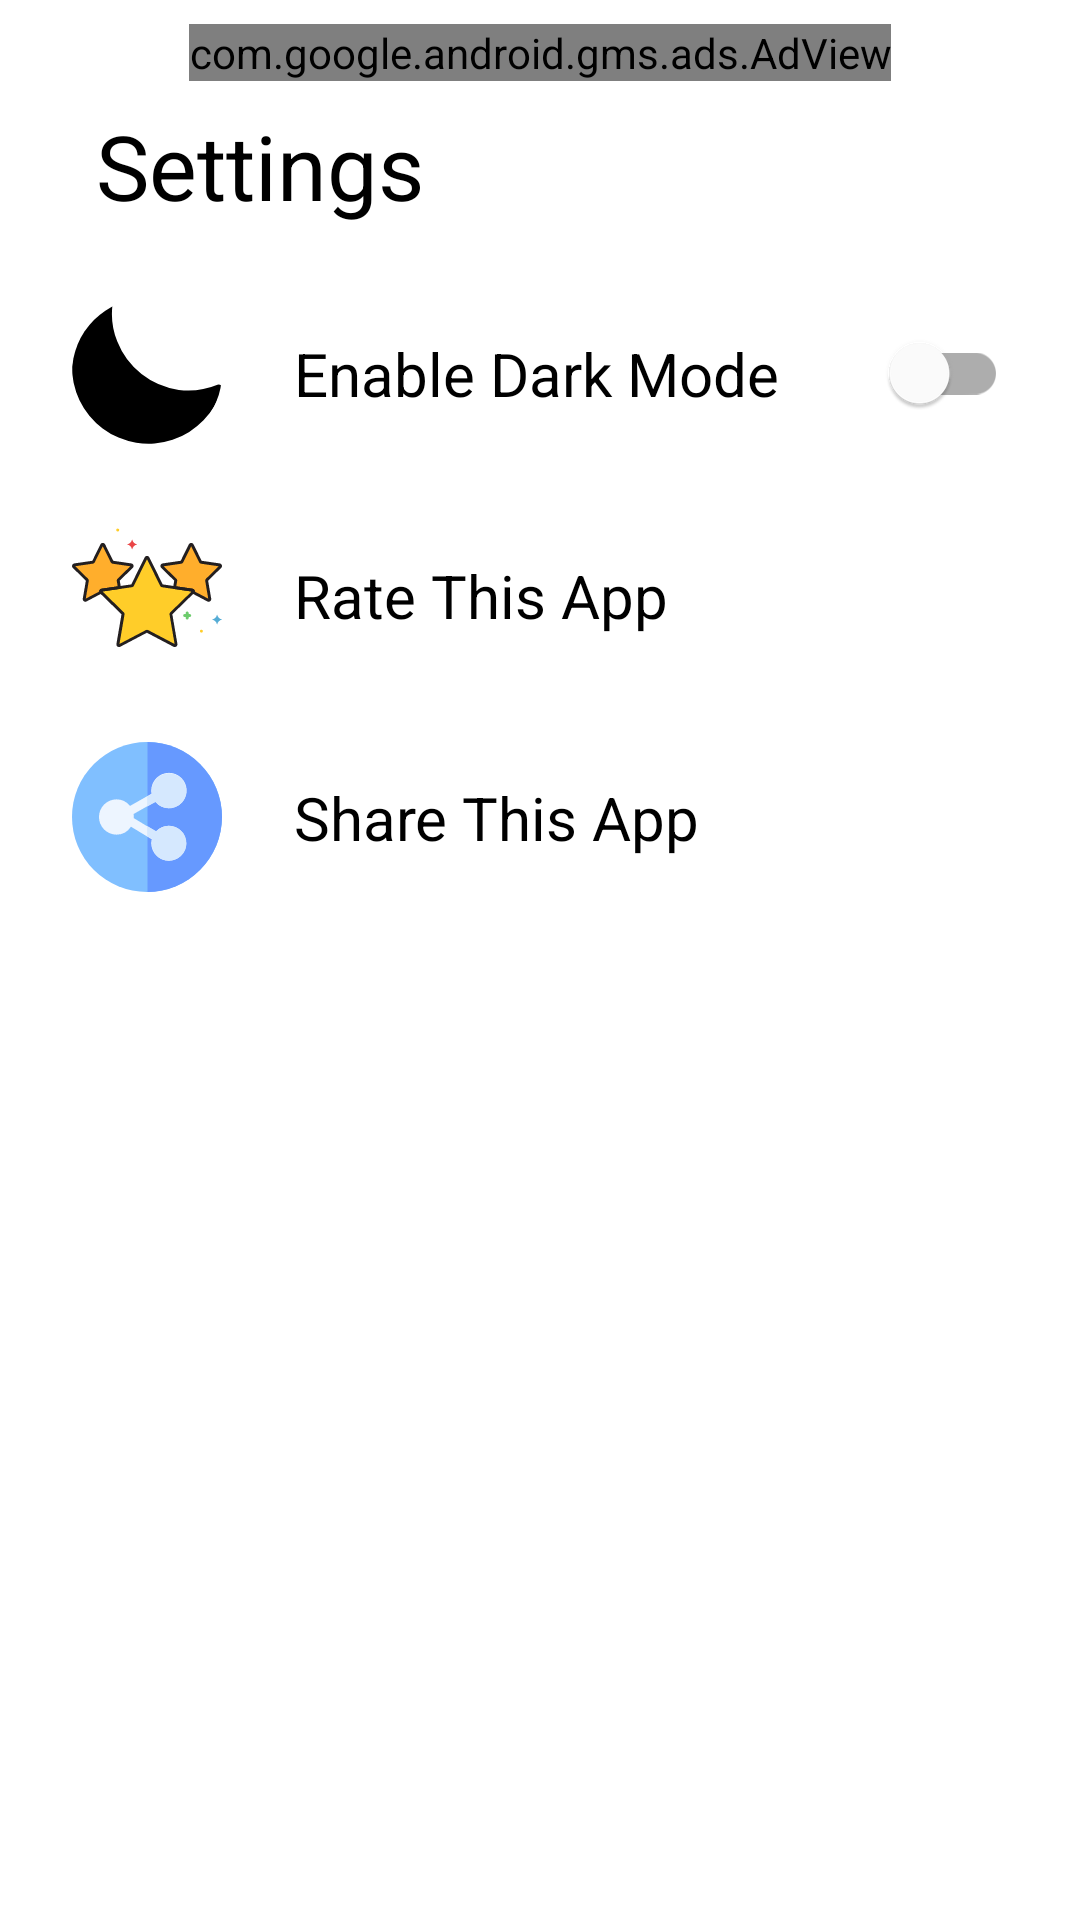

Icon click points for this 1080w x 1920h phone screenshot, format [x,y]:
moon: [146,375]
stars rating: [147,587]
